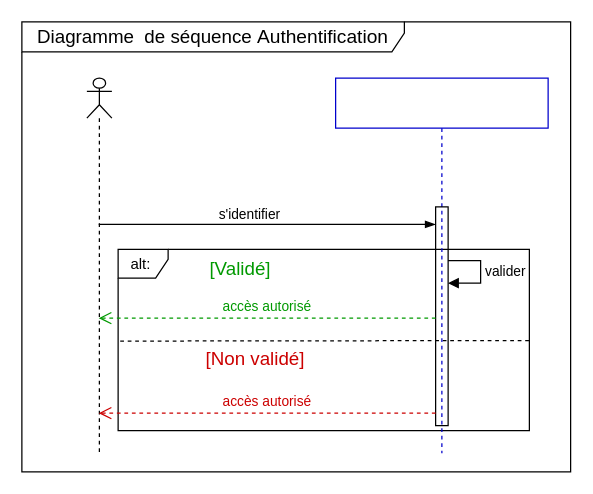
This 593x494 diagram has some shape labels left out. Each missing label, with the box of its shape:
Administrateur: (86, 77, 112, 453)
Systeme Keycloak: (334, 77, 548, 453)
